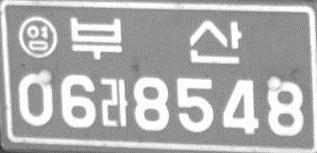0: (17, 72, 54, 127)
4: (222, 79, 260, 135)
5: (175, 77, 215, 133)
6: (59, 73, 96, 129)
8: (266, 79, 304, 137), (132, 76, 170, 132)
라: (99, 77, 129, 128)
부산_D: (70, 16, 242, 65)
영: (17, 16, 58, 59)
